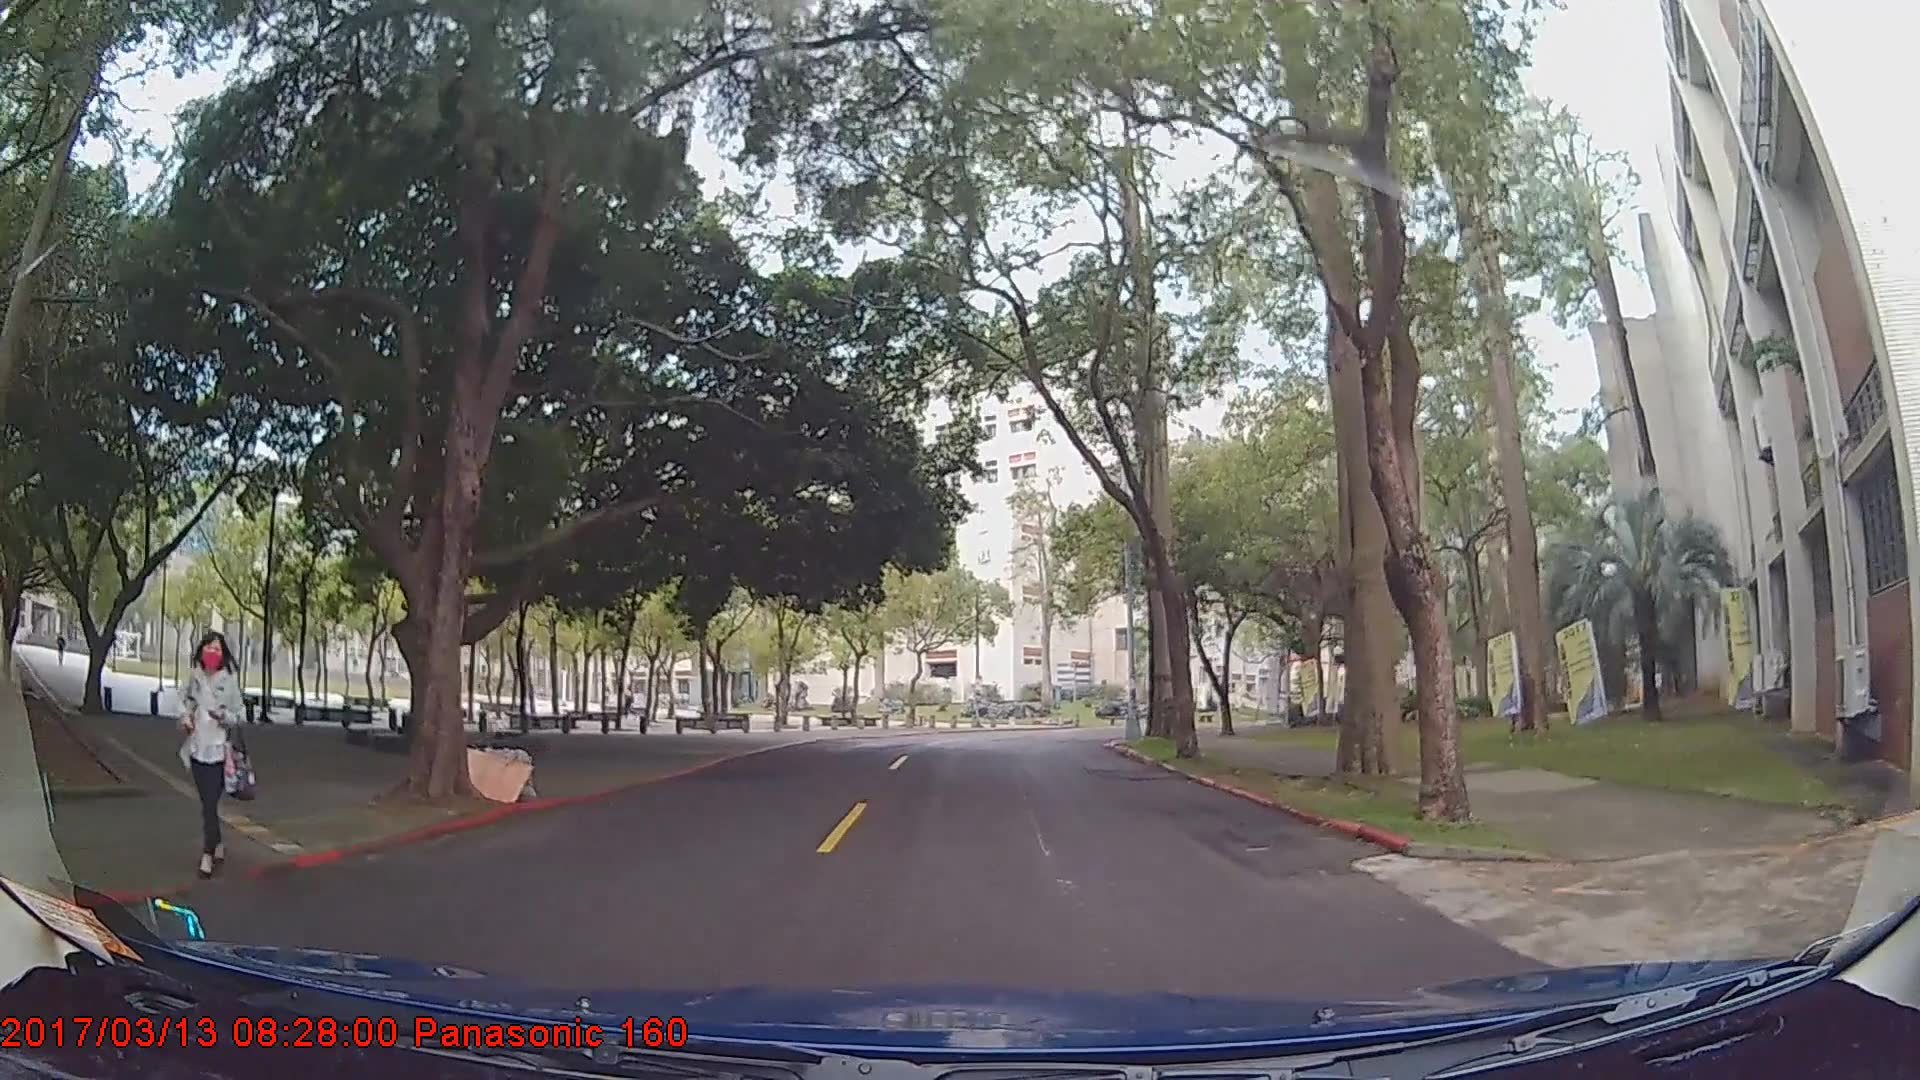pedestrian: (172, 625, 259, 877)
